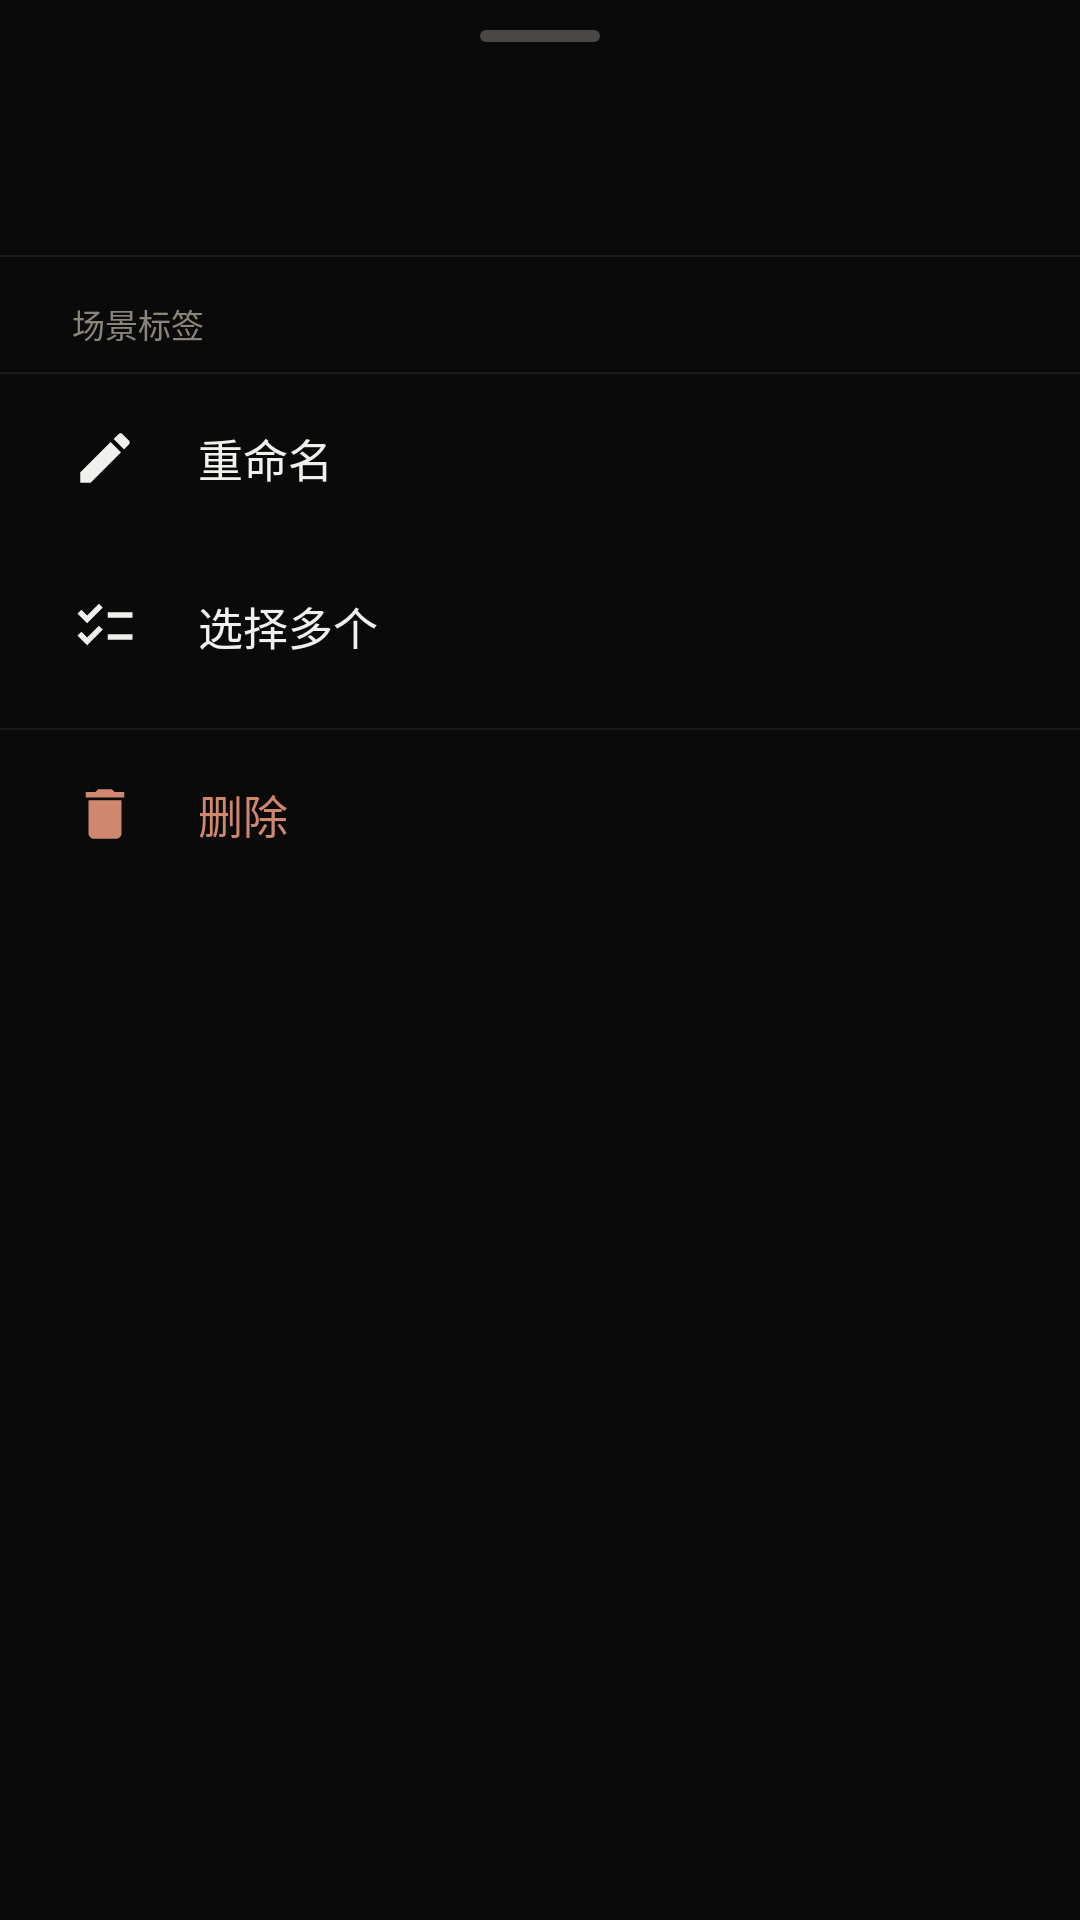

Where to tap for icons on this 1080 × 1920 app screen, as [x,y]:
delete: [105,814]
edit: [105,458]
select multi: [105,624]
